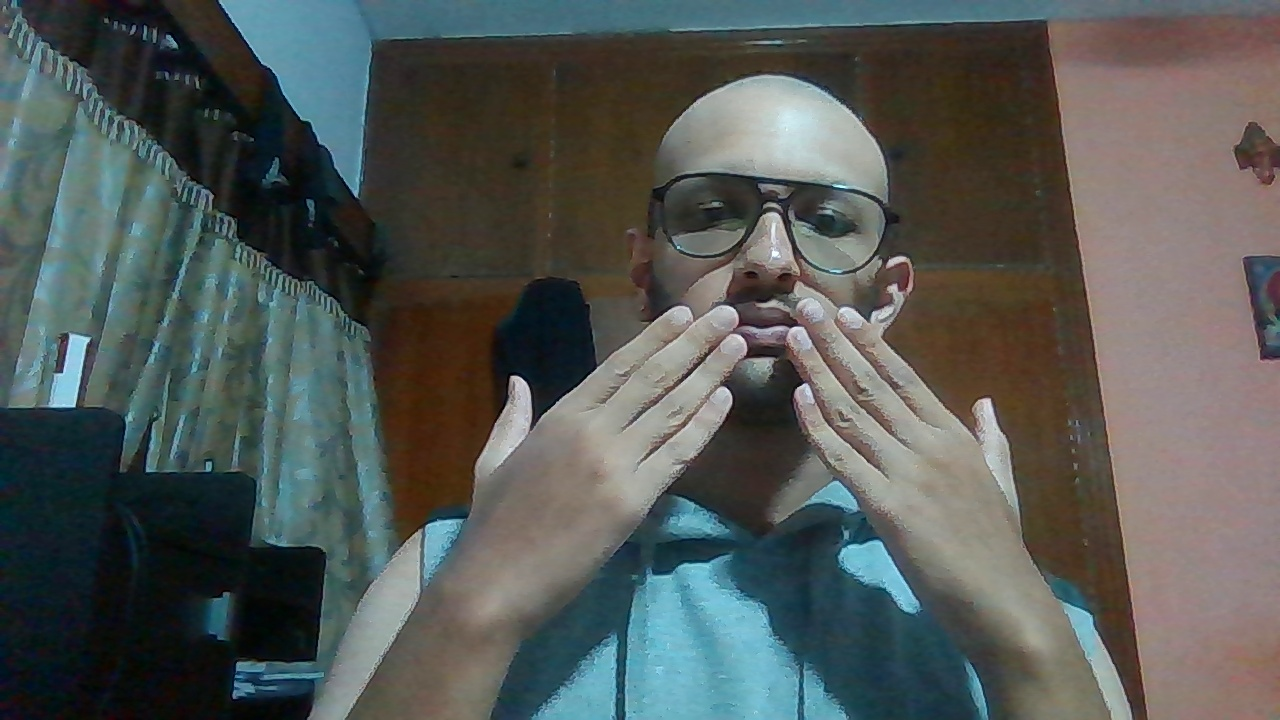Thank You: (471, 294, 1041, 588)
